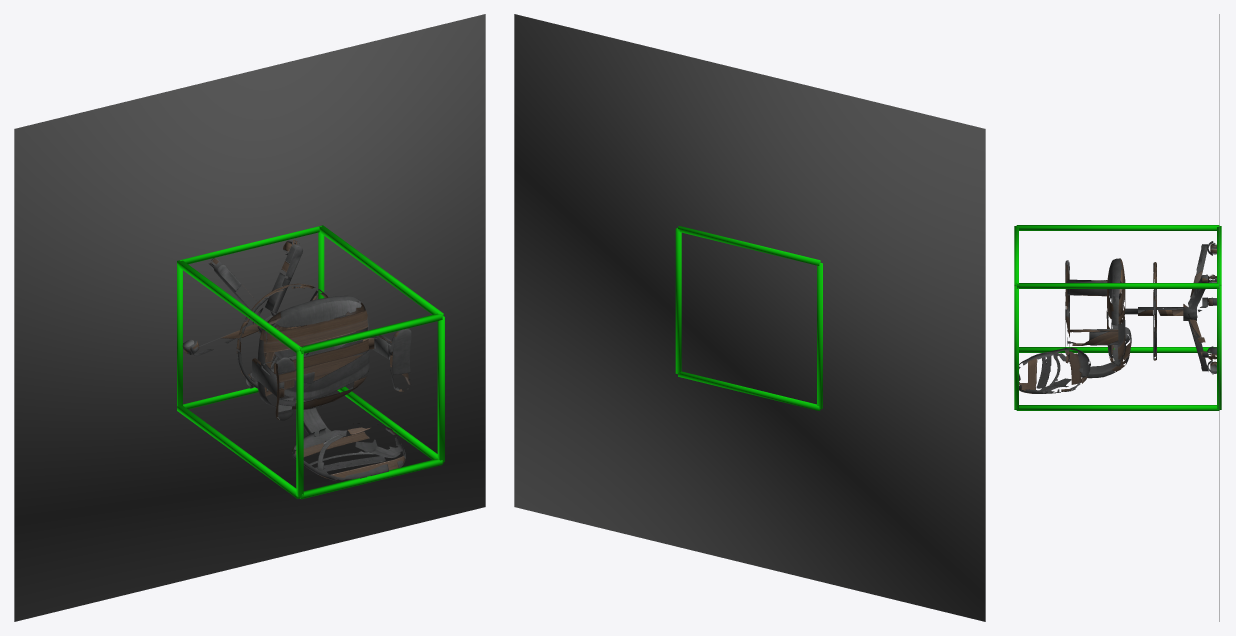
3 views of the same model, side by side, from view 1: azimuth 30°, elevation 25°; view 2: azimuth 150°, elevation 25°; view 3: azimuth 270°, elevation 25° (orthographic). The views are drawn at different scales.
Size of the model in its own units: 2 by 2 by 0.9067.
